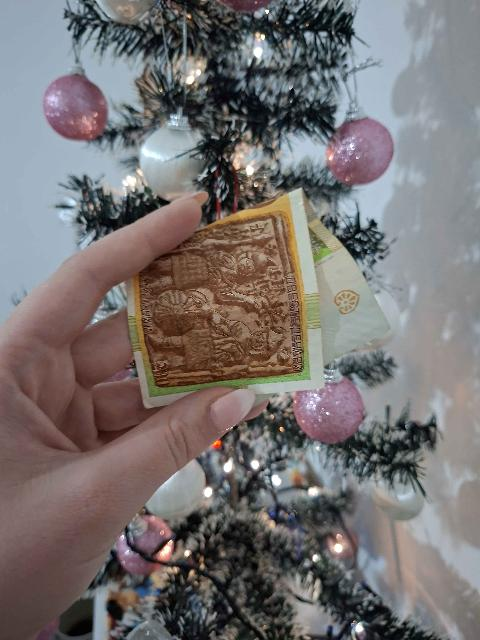200_note: (130, 195, 382, 404)
